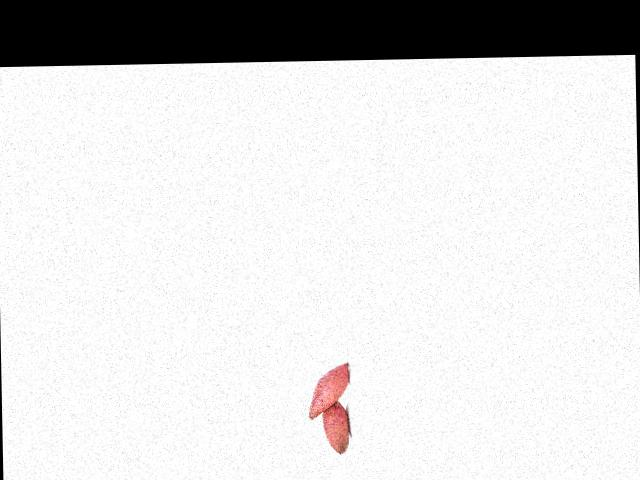sweet_potato: (318, 395, 350, 456)
